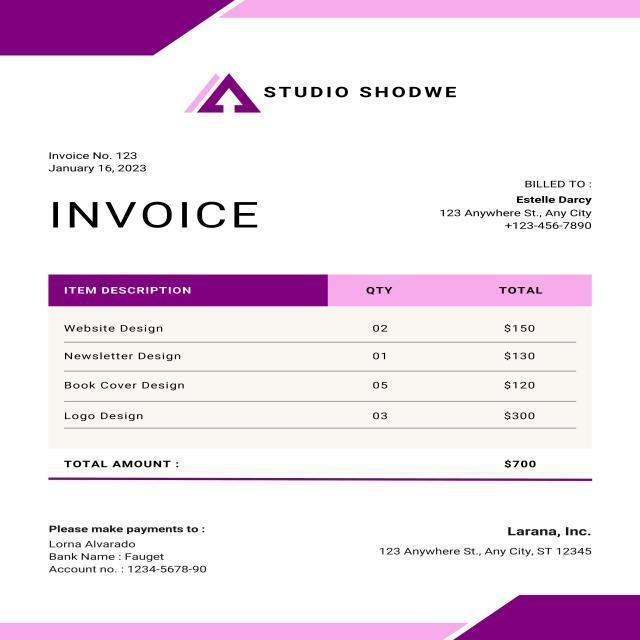ROI: (49, 274, 574, 428), (177, 63, 467, 122), (39, 514, 215, 579), (371, 520, 601, 564), (438, 174, 597, 234), (57, 453, 542, 472), (46, 196, 263, 232), (43, 147, 153, 176)
